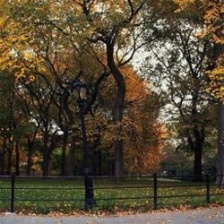neutral: (1, 1, 222, 224)
